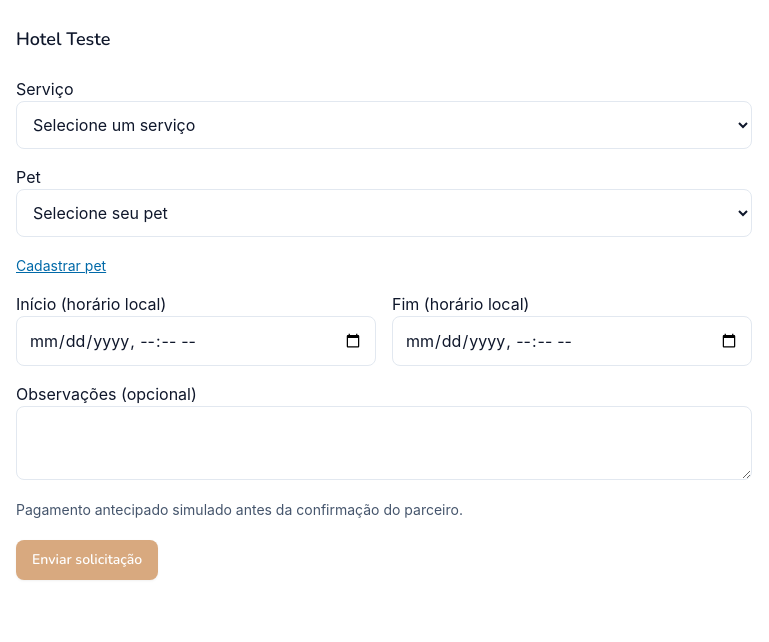
falha na conferência do envio mantém bloqueio de reenvio
This screenshot has width=769, height=642.
expect the heading "Hotel Teste" is shown: met, box [16,27,110,51]
Select "Hospedagem — R$ 100,00 por diária" in the dropdown labelled "Serviço" at [384, 125], box [16,101,752,149]
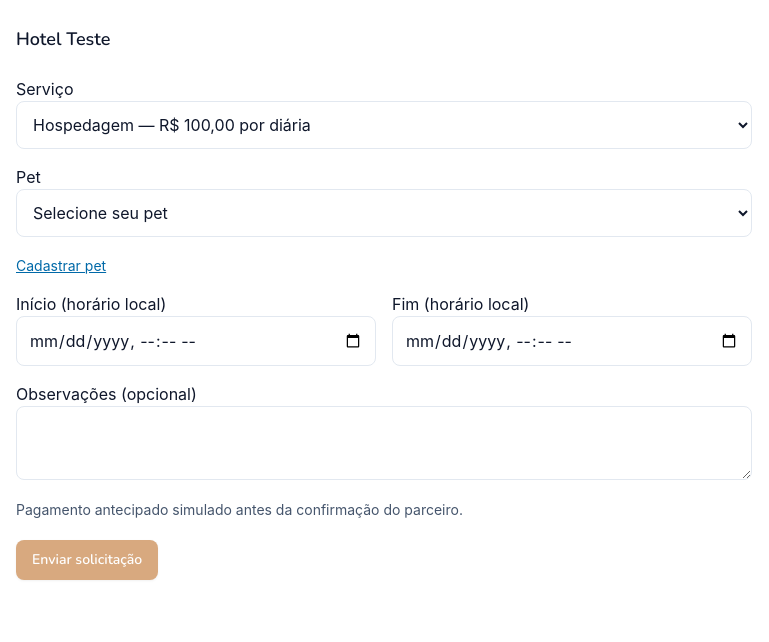
Select "Rex" in the dropdown labelled "Pet" at [384, 213], box [16,189,752,237]
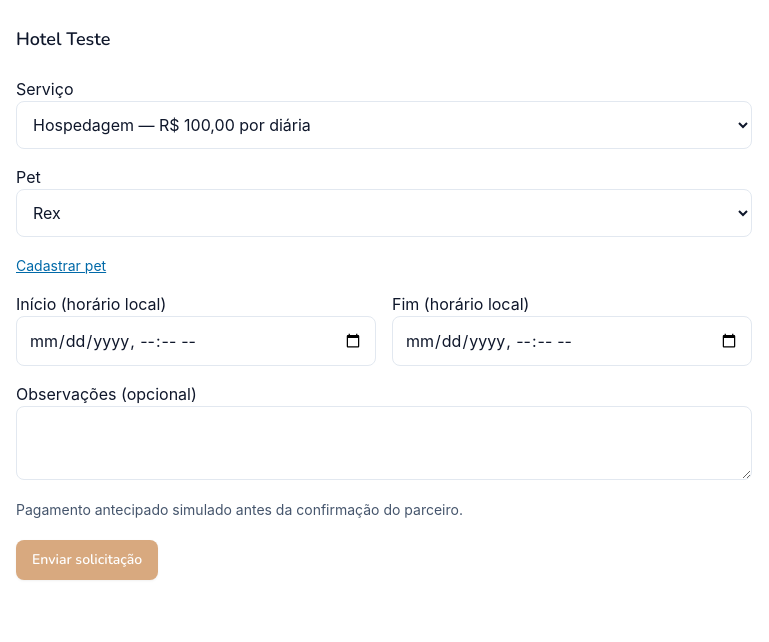
Type "2099-01-10T10:00" into the field labelled "Início (horário local)" at [196, 341], box [16,316,376,366]
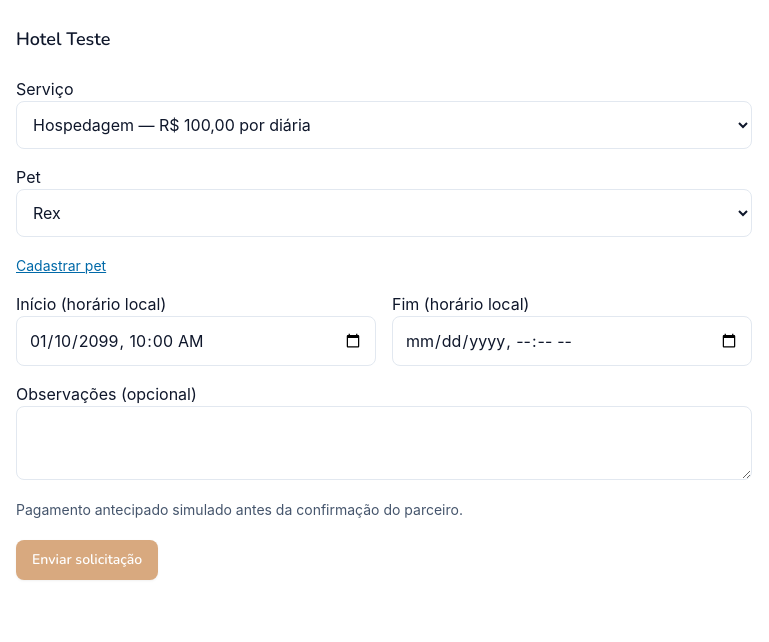
Type "2099-01-11T10:00" into the field labelled "Fim (horário local)" at [572, 341], box [392,316,752,366]
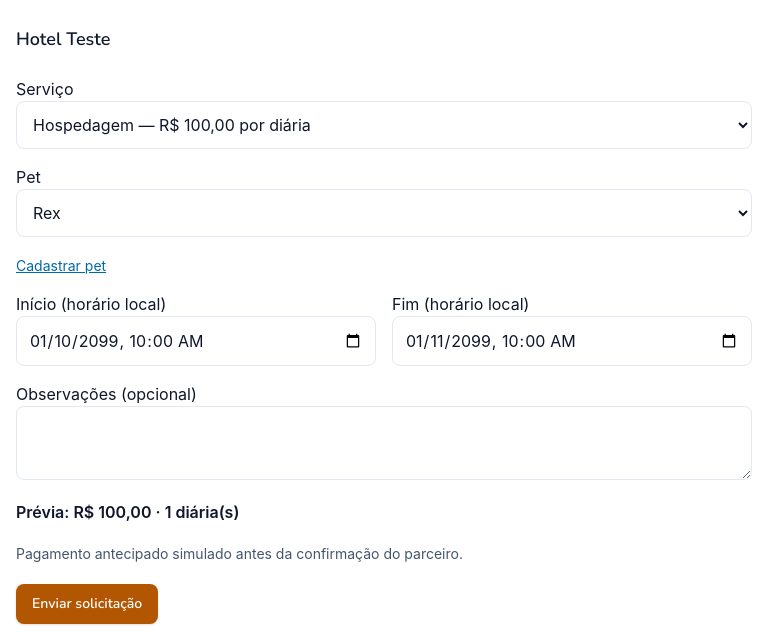
Click the button "Enviar solicitação" at [87, 604], box [16,584,158,624]
(page scrolled)
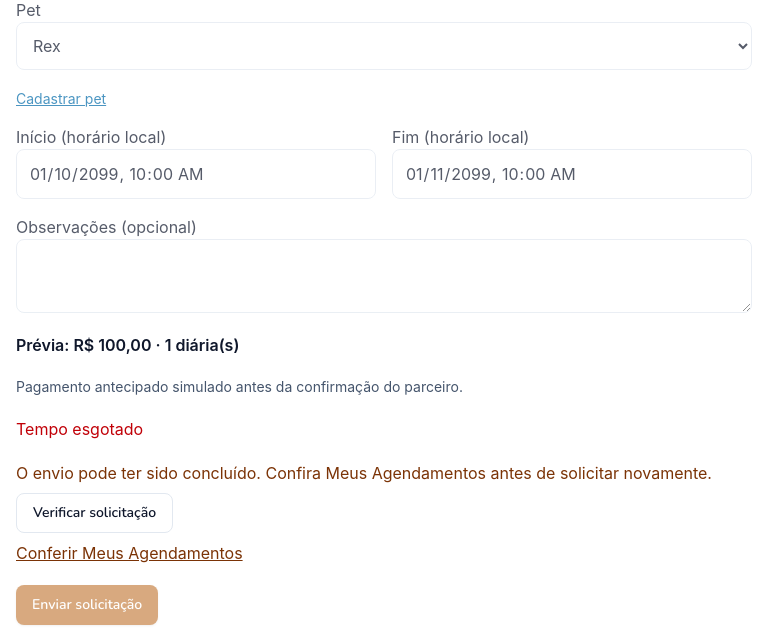
expect the text "O envio pode ter sido concluído" is shown: met, box [16,463,712,483]
Click the button "Verificar solicitação" at [95, 513], box [16,493,173,533]
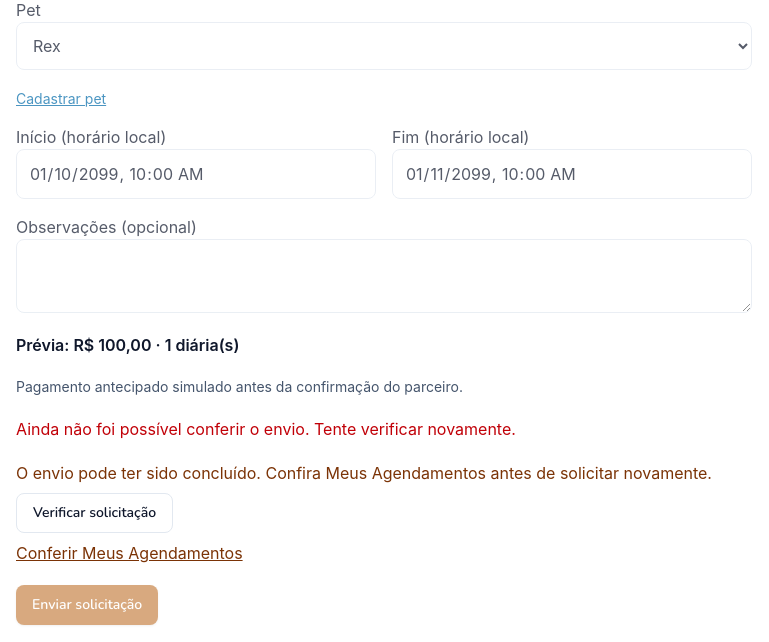
expect the button "Enviar solicitação" is disabled: met, box [16,585,158,625]
expect the text "Ainda não foi possível conferir o envio. Tente verificar novamente." is shown: met, box [16,419,516,439]
